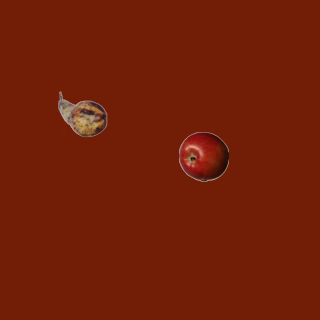Apple Braeburn: (178, 131, 228, 181)
Pear Abate: (57, 89, 107, 139)
